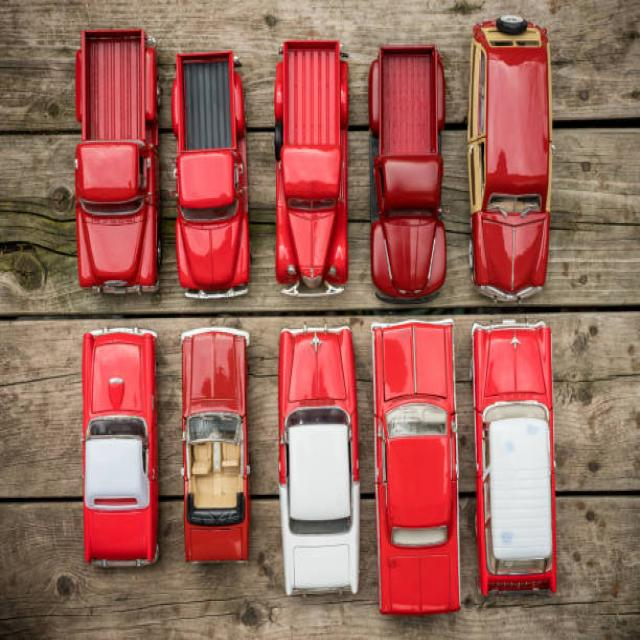Car: (372, 322, 459, 615), (467, 15, 551, 298), (473, 322, 555, 595), (76, 29, 160, 291), (278, 326, 360, 593), (368, 46, 445, 297), (173, 52, 249, 296), (275, 40, 347, 293), (83, 328, 158, 566), (182, 328, 249, 559)
